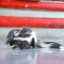skunk: (5, 27, 64, 51)
